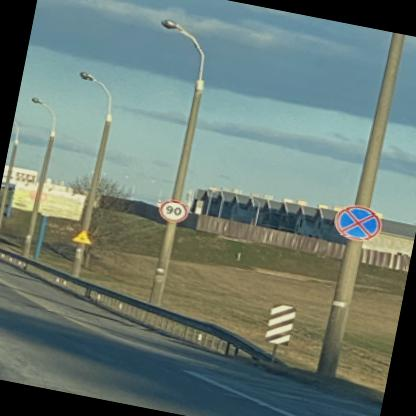speedlimit: (156, 197, 186, 223)
